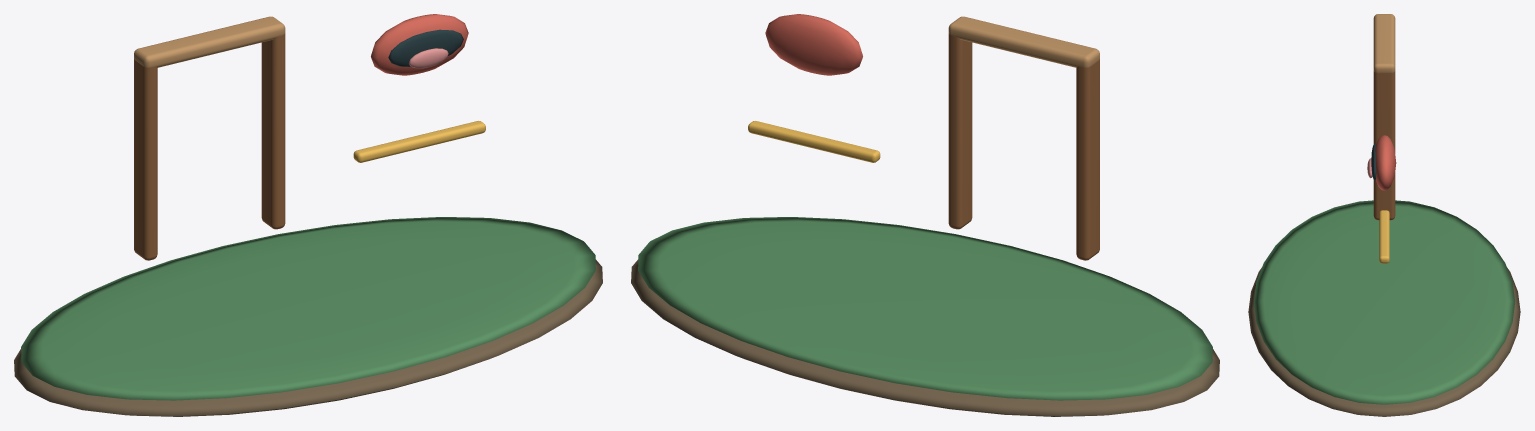
File: framed-mouth.glb
3 renders of one model, left to right at view 1: azimuth 30°, elevation 25°; view 2: azimuth 150°, elevation 25°; view 3: azimuth 270°, elevation 25°, orthographic. The views are drawn at different scales.
Parts seen in each view (by area): view 1: framed-mouth_surface_01, framed-mouth_surface_00, framed-mouth_surface_02, framed-mouth_surface_03, framed-mouth_surface_05, framed-mouth_surface_04, framed-mouth_surface_06, framed-mouth_surface_07; view 2: framed-mouth_surface_01, framed-mouth_surface_00, framed-mouth_surface_02, framed-mouth_surface_05, framed-mouth_surface_03, framed-mouth_surface_04; view 3: framed-mouth_surface_01, framed-mouth_surface_00, framed-mouth_surface_02, framed-mouth_surface_03, framed-mouth_surface_05, framed-mouth_surface_04.
Boxes of the visible parts, x1,y1,x2,y2 form: framed-mouth_surface_01: (21, 217, 595, 400); framed-mouth_surface_00: (14, 259, 602, 416); framed-mouth_surface_02: (134, 33, 285, 260); framed-mouth_surface_03: (134, 16, 285, 67); framed-mouth_surface_05: (371, 14, 468, 75); framed-mouth_surface_04: (353, 121, 485, 162); framed-mouth_surface_06: (388, 29, 463, 66); framed-mouth_surface_07: (408, 48, 448, 68); framed-mouth_surface_01: (638, 217, 1212, 400); framed-mouth_surface_00: (631, 259, 1219, 416); framed-mouth_surface_02: (948, 33, 1099, 260); framed-mouth_surface_05: (765, 14, 862, 75); framed-mouth_surface_03: (948, 16, 1099, 67); framed-mouth_surface_04: (748, 121, 880, 162); framed-mouth_surface_01: (1254, 200, 1514, 404); framed-mouth_surface_00: (1248, 267, 1520, 416); framed-mouth_surface_02: (1373, 71, 1395, 220); framed-mouth_surface_03: (1373, 14, 1395, 72); framed-mouth_surface_05: (1375, 135, 1396, 190); framed-mouth_surface_04: (1379, 210, 1389, 263).
Size of the model in its own units: 4.56 by 2.52 by 2.5.
